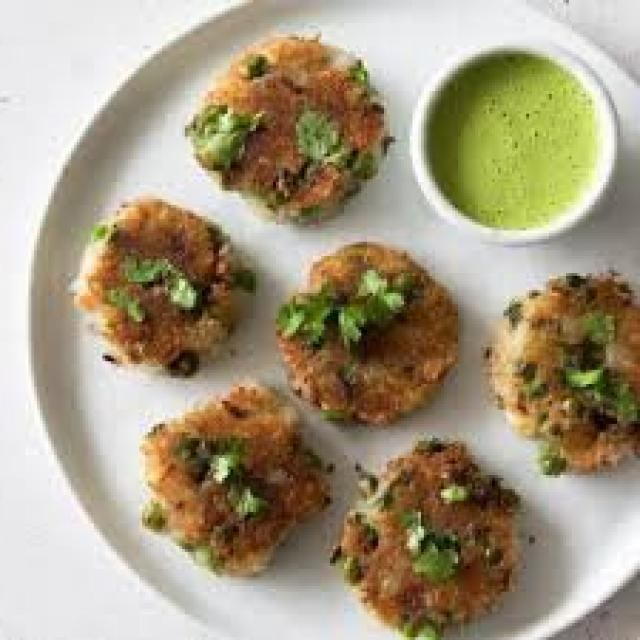Aloo Tikki: (334, 440, 518, 638), (190, 37, 385, 223), (144, 386, 328, 575), (277, 240, 455, 427), (71, 196, 255, 372), (480, 274, 639, 474)
